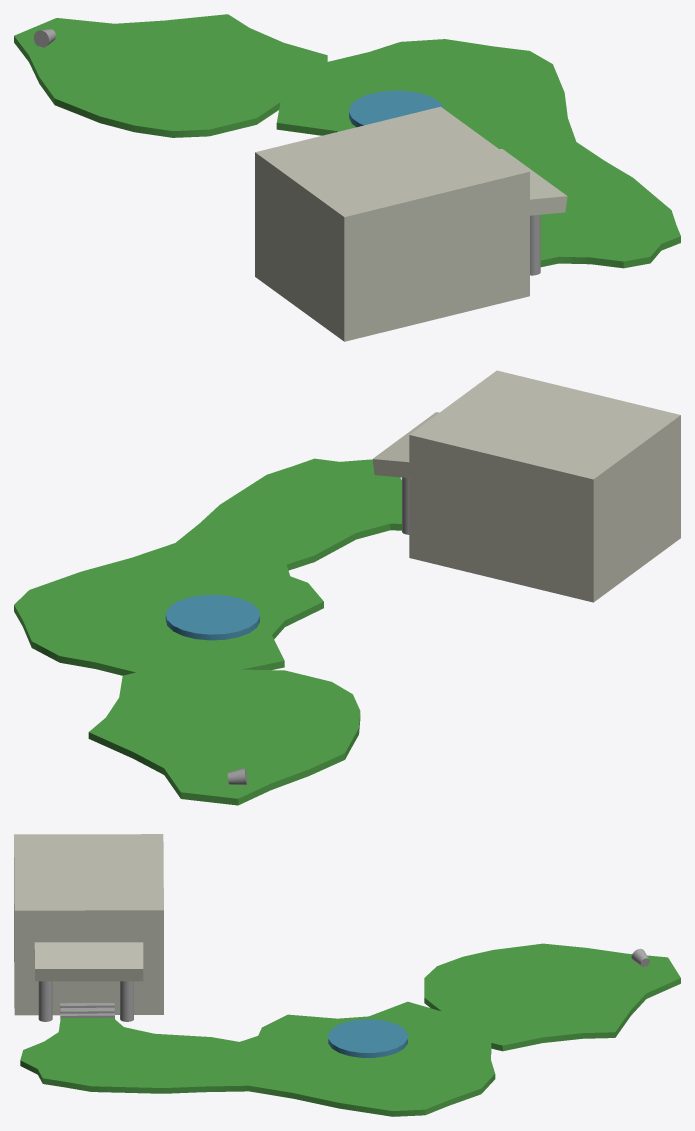
File: vrij2_introlvl_ground.fbx
3 renders of one model, top to bottom at view 1: azimuth 30°, elevation 25°; view 2: azimuth 150°, elevation 25°; view 3: azimuth 270°, elevation 25°, orthographic. The views are drawn at different scales.
Parts seen in each view (by area): view 1: introlvl_basis; view 2: introlvl_basis; view 3: introlvl_basis.
Boxes of the visible parts, bbox=[...] form: introlvl_basis: bbox=[14, 14, 680, 341]; introlvl_basis: bbox=[14, 370, 680, 805]; introlvl_basis: bbox=[14, 834, 680, 1116].
Bounding box in the file's own units: 0.1204 × 0.0345 × 0.1906.
